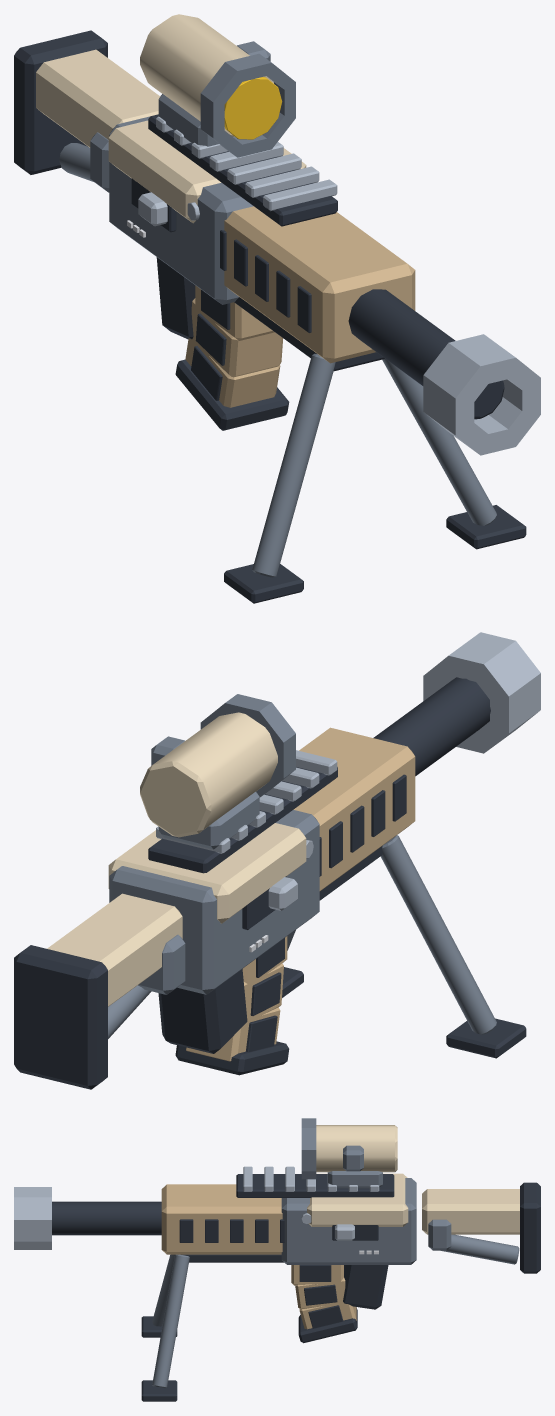
File: Military_SR_v001.fbx
The picture shows the model from 3 angles, top to bottom: view 1: azimuth 30°, elevation 25°; view 2: azimuth 150°, elevation 25°; view 3: azimuth 270°, elevation 25°; orthographic projection. The views are drawn at different scales.
Visible parts, largest first — view 1: Military_SR__RECEIVER_MESH, Military_SR__BIPOD_MESH, Military_SR__MAGAZINE_MESH; view 2: Military_SR__RECEIVER_MESH, Military_SR__BIPOD_MESH, Military_SR__MAGAZINE_MESH; view 3: Military_SR__RECEIVER_MESH, Military_SR__MAGAZINE_MESH, Military_SR__BIPOD_MESH.
Boxes of the visible parts, x1=… form: Military_SR__RECEIVER_MESH: x1=14, y1=14, x2=540, y2=455; Military_SR__BIPOD_MESH: x1=224, y1=353, x2=526, y2=603; Military_SR__MAGAZINE_MESH: x1=175, y1=285, x2=289, y2=430; Military_SR__RECEIVER_MESH: x1=14, y1=632, x2=540, y2=1089; Military_SR__BIPOD_MESH: x1=282, y1=835, x2=526, y2=1058; Military_SR__MAGAZINE_MESH: x1=175, y1=936, x2=289, y2=1075; Military_SR__RECEIVER_MESH: x1=14, y1=1118, x2=540, y2=1309; Military_SR__MAGAZINE_MESH: x1=291, y1=1265, x2=357, y2=1343; Military_SR__BIPOD_MESH: x1=141, y1=1254, x2=189, y2=1401.
Bounding box in the file's own units: 0.89 × 1.25 × 2.5.
